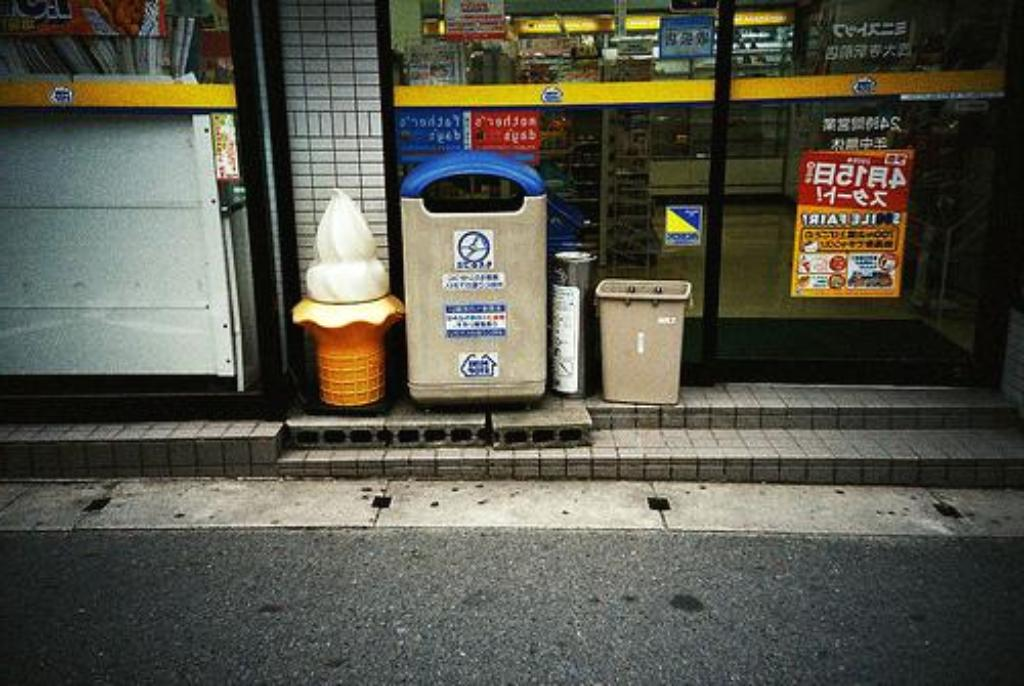dustbin: (394, 167, 563, 394), (589, 275, 692, 416)
